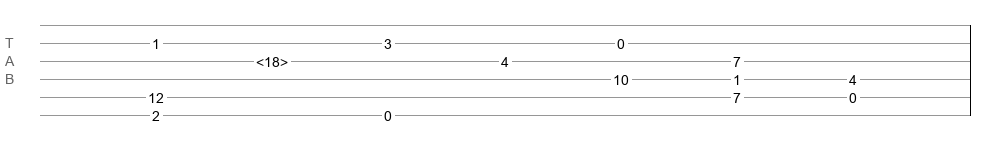0: (384, 108, 392, 118), (617, 36, 625, 46), (849, 90, 857, 100)
1: (152, 36, 160, 46), (733, 72, 741, 82)
10: (613, 72, 629, 82)
12: (148, 90, 164, 100)
2: (152, 108, 160, 118)
3: (384, 36, 392, 46)
4: (501, 54, 509, 64), (849, 72, 857, 82)
7: (733, 54, 741, 64), (733, 90, 741, 100)
harmonic: (256, 54, 288, 64)
